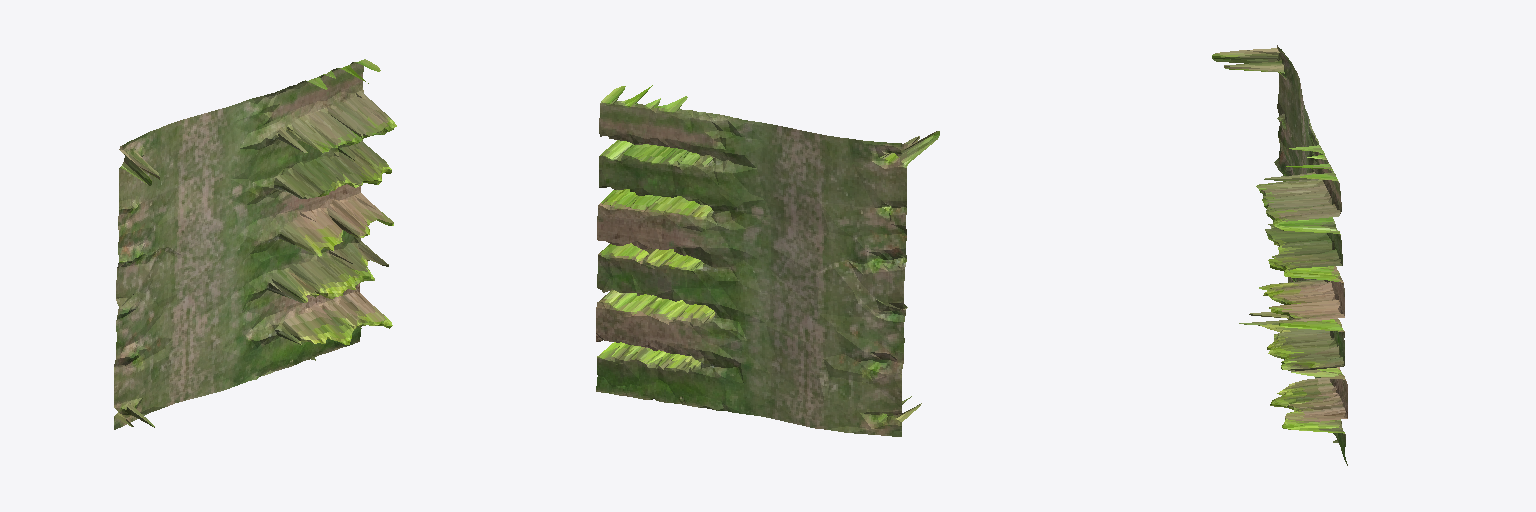
3 views of the same model, side by side, from view 1: azimuth 30°, elevation 25°; view 2: azimuth 150°, elevation 25°; view 3: azimuth 270°, elevation 25° (orthographic).
Visible parts, largest first — view 1: grp1; view 2: grp1; view 3: grp1.
Boxes of the visible parts, box(x1,y1,x2,y2) form: grp1: box(114, 59, 396, 429); grp1: box(596, 85, 939, 436); grp1: box(1212, 45, 1347, 465).
Size of the model in its own units: 10 by 10 by 4.3.
1 materials, 1 textured.